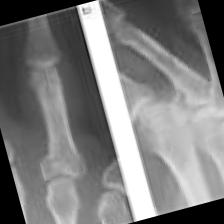intra-articular-fracture: (0, 6, 134, 224), (98, 0, 224, 216)
